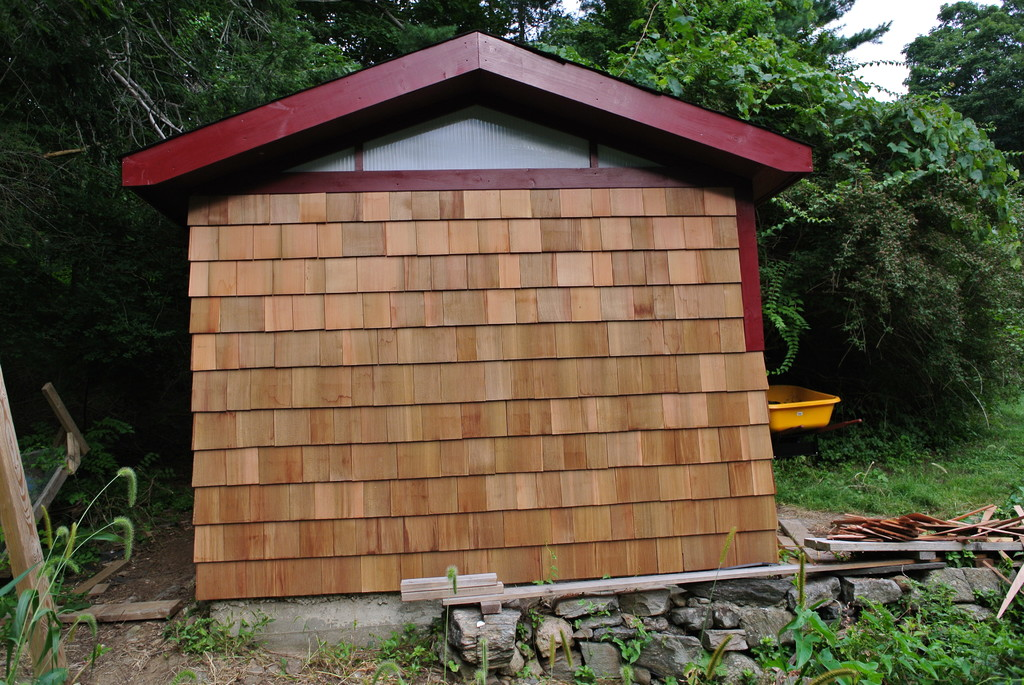Tree: (0, 0, 1024, 435)
